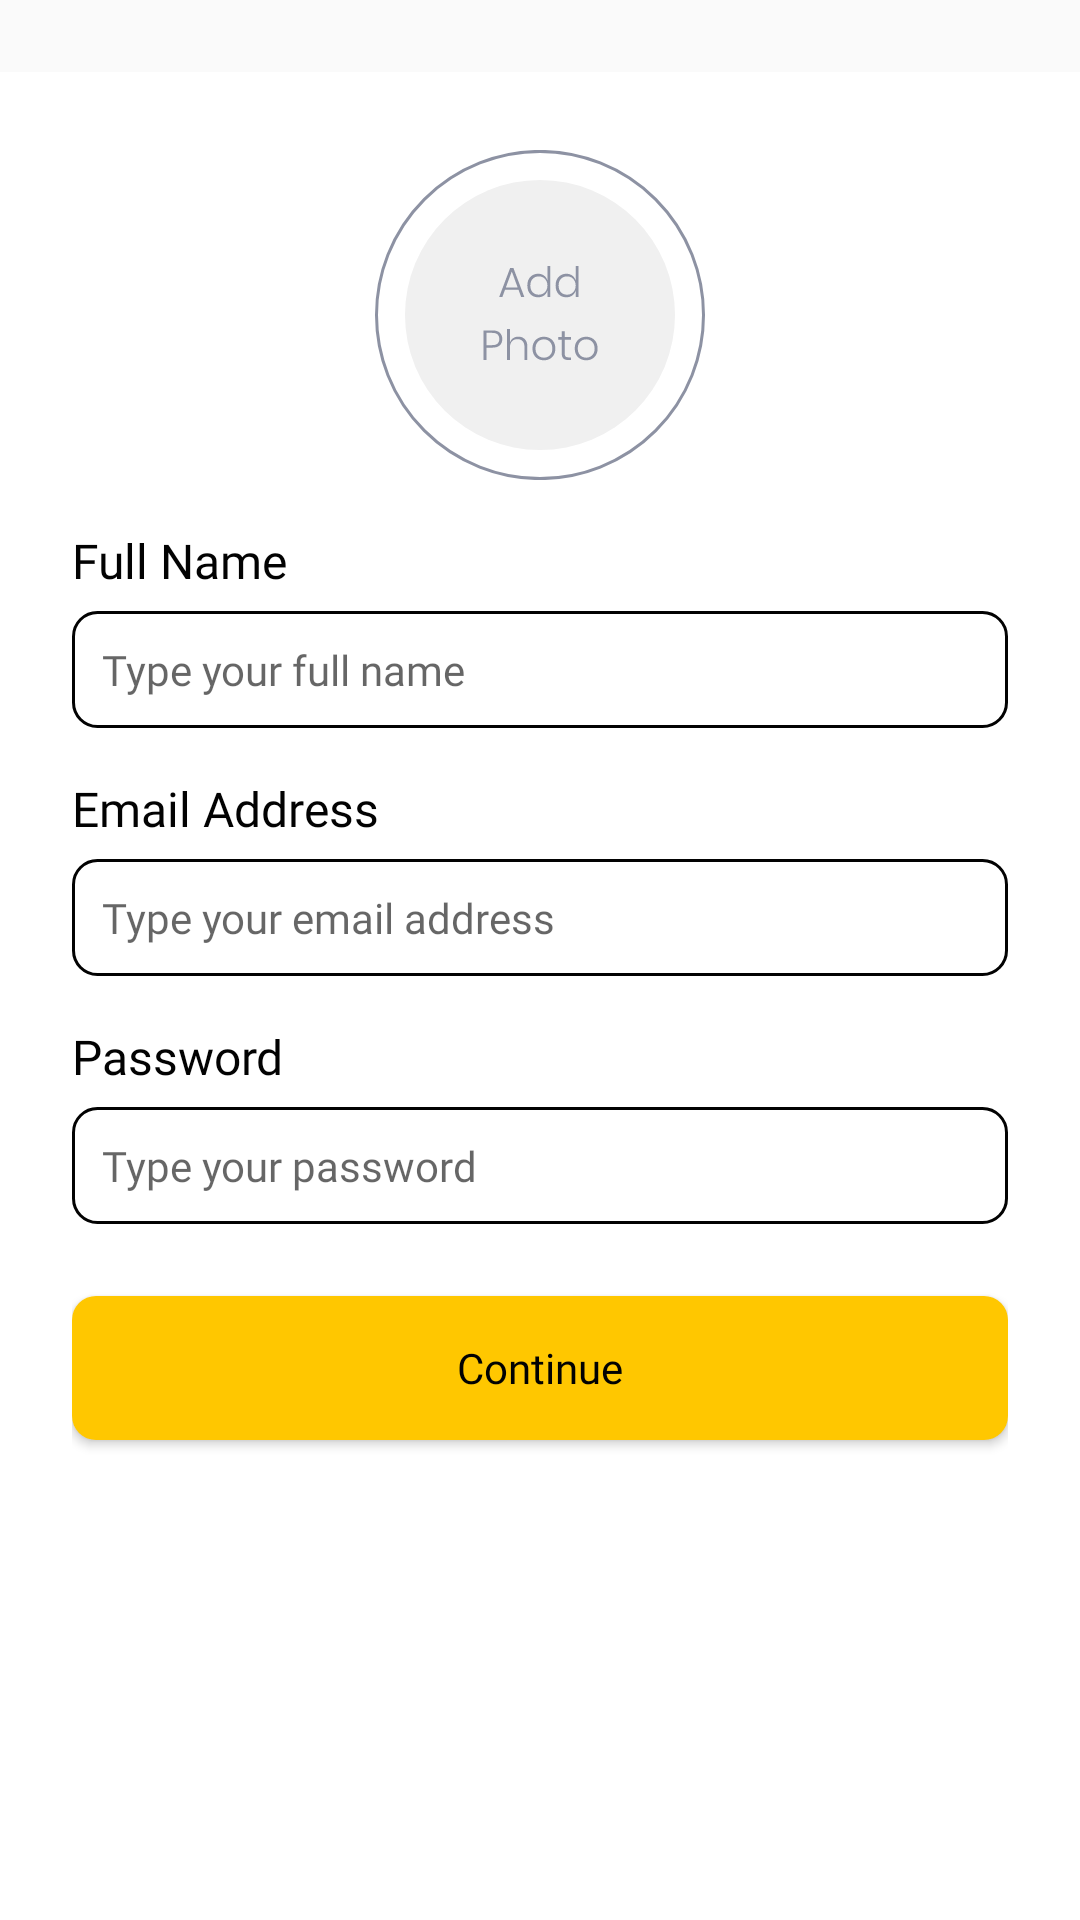

Screen size 1080x1920. Icon name, then its center in pixels as point (x, y):
picture empty: point (540, 315)
